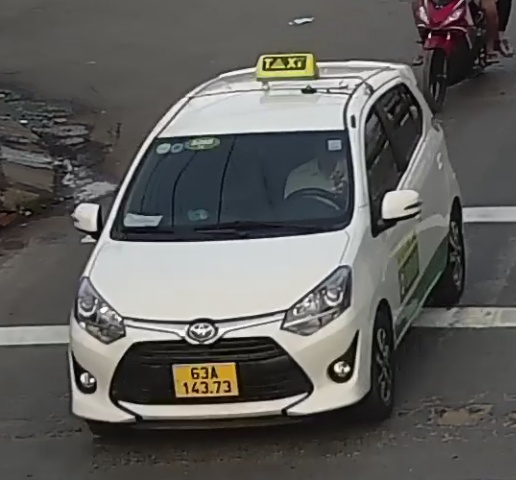vehicle plate: (169, 361, 244, 397)
